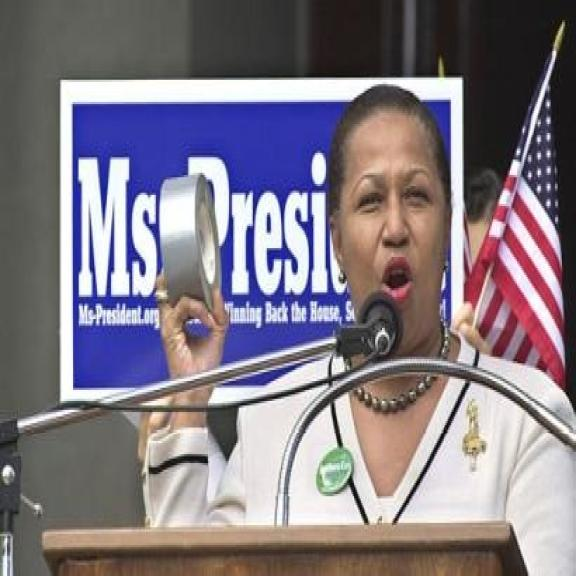face: (326, 132, 455, 355)
